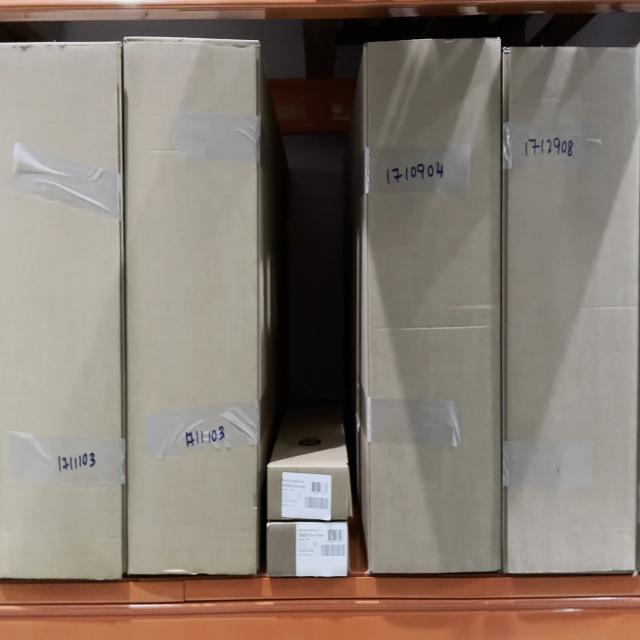box: (125, 46, 258, 574), (368, 46, 500, 570), (509, 49, 636, 570), (2, 46, 120, 576), (267, 468, 347, 521), (269, 528, 346, 575)
